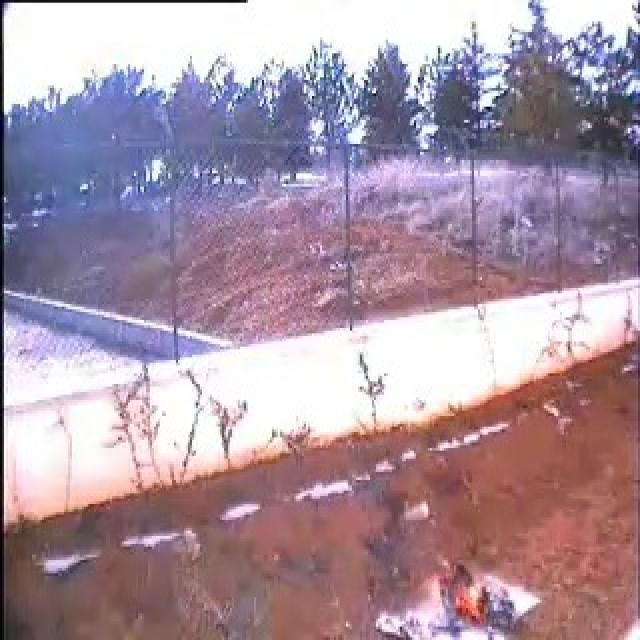fire: (457, 591, 489, 624)
smoke: (381, 537, 403, 582)
